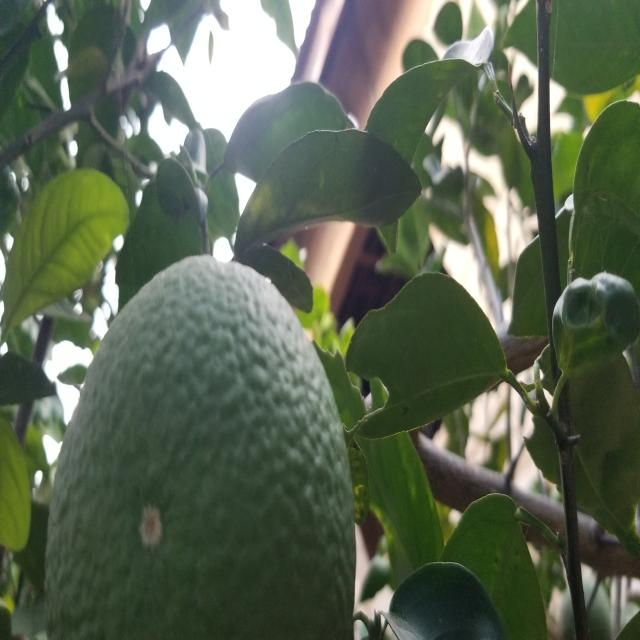Unripe: (46, 245, 357, 640)
